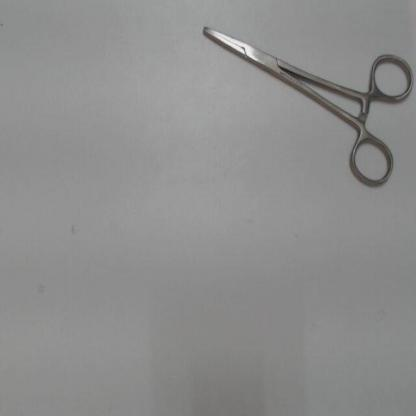Mayo Needle Holder: (192, 14, 416, 197)
